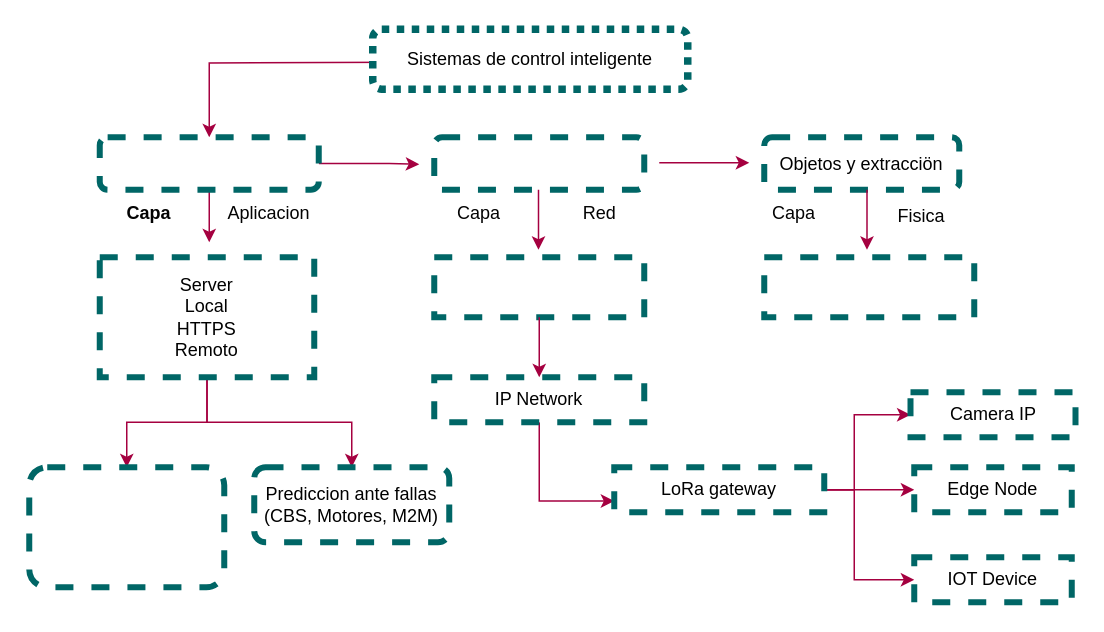
Some shapes in this 1104 by 632 pixel diagram are drawn without their labels. Here are the shapes that lost their labels. From the top down, the box of each, then its label:
(96, 134, 321, 192): Aplicacion y modelo
(430, 134, 646, 192): Servicios
(430, 254, 646, 320): Edge Router
(760, 254, 976, 320): Edger Point
(26, 464, 226, 590): Aperturas de puestas Aproximidad Sensor Ahorro de energia Temperatura Humedad
